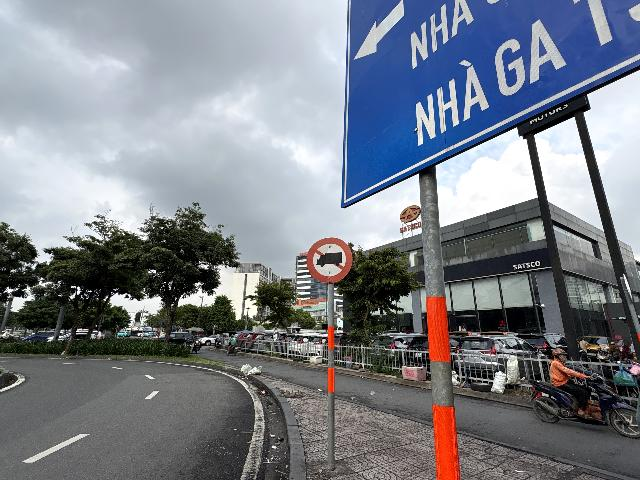cam-xe-tai: (306, 238, 352, 284)
